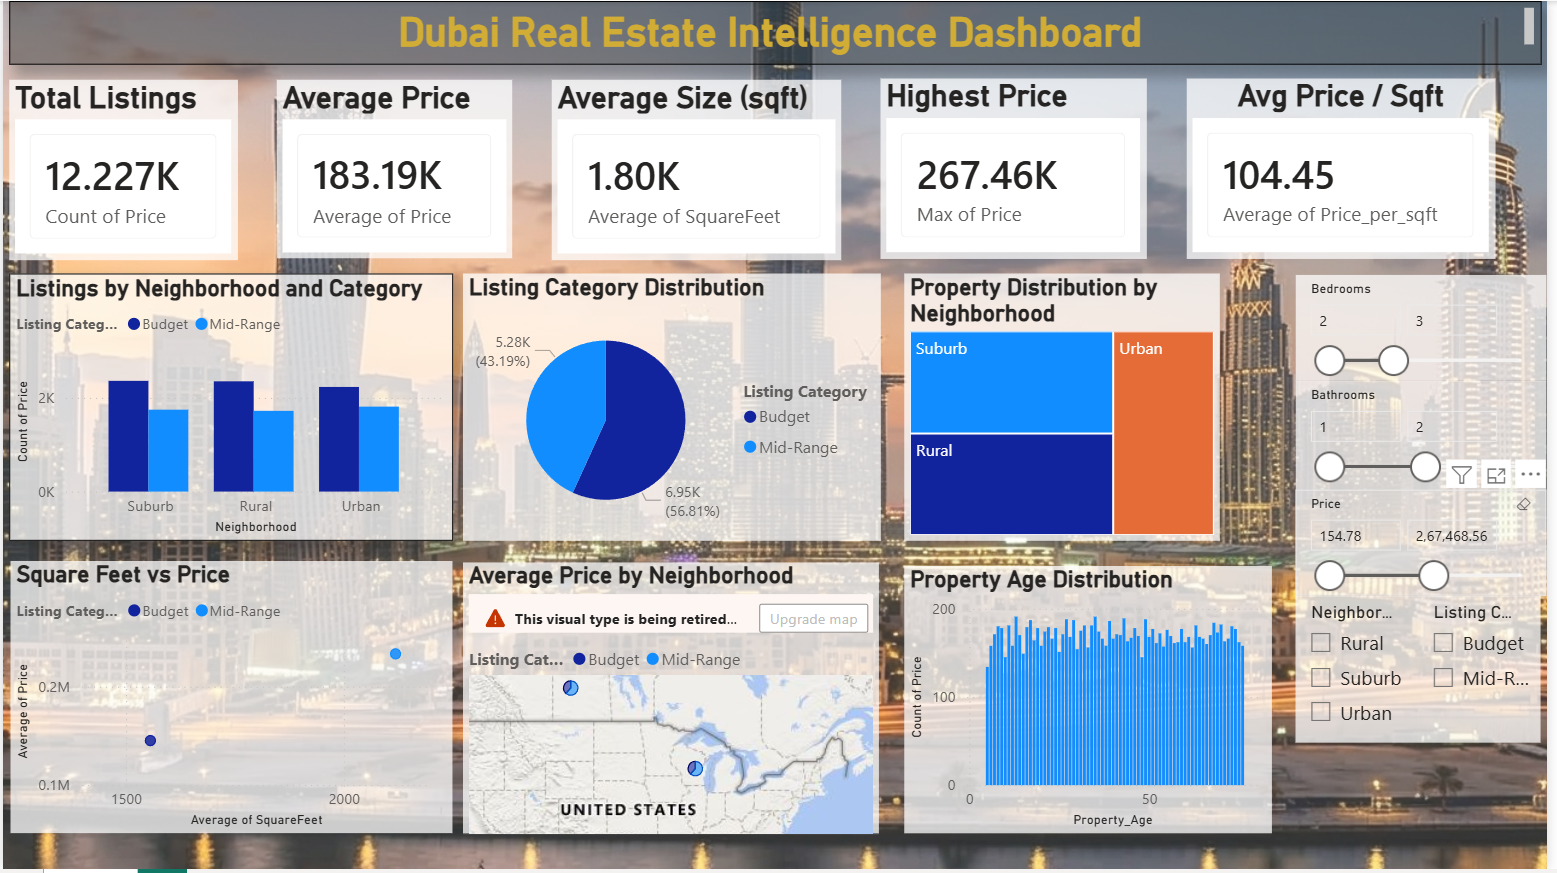

What the dashboard file says about the page in this screenshot:
{"tool":"powerbi","page":{"name":"Page 1","canvas":[1280,720],"ordinal":0},"visuals":[{"type":"textbox","box":[4.8,0,1270.4,53.1],"z":0},{"type":"cardVisual","title":"Total Listings","fields":{"Data":["CountNonNull(housing_price_dataset.Price)"]},"box":[4.8,65.1,189.4,149.6],"z":1000},{"type":"cardVisual","title":"Average Price","fields":{"Data":["Avg(housing_price_dataset.Price)"]},"box":[226.8,65.8,195.4,148.4],"z":2000},{"type":"cardVisual","title":"Average Size (sqft)","fields":{"Data":["Avg(housing_price_dataset.SquareFeet)"]},"box":[454.8,65.1,240.1,149.6],"z":3000},{"type":"cardVisual","title":"Avg Price / Sqft","fields":{"Data":["Avg(housing_price_dataset.Price_per_sqft)"]},"box":[980.8,63.9,255.8,149.6],"z":4000},{"type":"cardVisual","title":"Highest Price","fields":{"Data":["Max(housing_price_dataset.Price)"]},"box":[727.5,64.5,220.8,149.6],"z":5000},{"type":"clusteredColumnChart","title":"Listings by Neighborhood and Category","fields":{"Category":["housing_price_dataset.Neighborhood"],"Y":["CountNonNull(housing_price_dataset.Price)"],"Series":["housing_price_dataset.Listing Category"]},"box":[4.8,225.6,368,222],"z":6000},{"type":"pieChart","title":"Listing Category Distribution","fields":{"Category":["housing_price_dataset.Listing Category"],"Y":["CountNonNull(housing_price_dataset.Price)"]},"box":[381.2,225.6,346.2,222],"z":7000},{"type":"clusteredColumnChart","title":"Property Age Distribution","fields":{"Category":["housing_price_dataset.Property_Age"],"Y":["CountNonNull(housing_price_dataset.Price)"]},"box":[746.7,468.3,305,221.7],"z":8000},{"type":"scatterChart","title":"Square Feet vs Price","fields":{"X":["Avg(housing_price_dataset.SquareFeet)"],"Y":["Avg(housing_price_dataset.Price)"],"Series":["housing_price_dataset.Listing Category"]},"box":[6,464.5,366.8,225.6],"z":9000},{"type":"map","title":"Average Price by Neighborhood","fields":{"Category":["housing_price_dataset.Neighborhood"],"Series":["housing_price_dataset.Listing Category"],"Size":["Avg(housing_price_dataset.Price)"]},"box":[381.7,465,345,225],"z":10000},{"type":"treemap","title":"Property Distribution by Neighborhood","fields":{"Values":["CountNonNull(housing_price_dataset.Price)"],"Group":["housing_price_dataset.Neighborhood"]},"box":[746.8,225.6,261.8,222],"z":11000},{"type":"slicer","fields":{"Values":["housing_price_dataset.Bedrooms"]},"box":[1071.7,226.7,208.3,88.3],"z":12000},{"type":"slicer","fields":{"Values":["housing_price_dataset.Bathrooms"]},"box":[1071.7,315,208.3,90],"z":13000},{"type":"slicer","fields":{"Values":["housing_price_dataset.Neighborhood"]},"box":[1071.7,493.3,101.7,121.7],"z":14000},{"type":"slicer","fields":{"Values":["housing_price_dataset.Listing Category"]},"box":[1173.3,493.3,101.7,121.7],"z":15000},{"type":"slicer","fields":{"Values":["housing_price_dataset.Price"]},"box":[1071.7,405,208.3,88.3],"z":16000}]}

Visuals, with their boxes in screenshot pixels (x1, y1, x2, y2), scaled from the page's 1280x720 canvas onto the 1557x873 screenshot:
textbox: 6,0,1551,64
"Total Listings" cardVisual: 6,79,236,260
"Average Price" cardVisual: 276,80,514,260
"Average Size (sqft)" cardVisual: 553,79,845,260
"Avg Price / Sqft" cardVisual: 1193,77,1504,259
"Highest Price" cardVisual: 885,78,1154,260
"Listings by Neighborhood and Category" clusteredColumnChart: 6,274,453,543
"Listing Category Distribution" pieChart: 464,274,885,543
"Property Age Distribution" clusteredColumnChart: 908,568,1279,837
"Square Feet vs Price" scatterChart: 7,563,453,837
"Average Price by Neighborhood" map: 464,564,884,837
"Property Distribution by Neighborhood" treemap: 908,274,1227,543
slicer - housing_price_dataset.Bedrooms: 1304,275,1556,382
slicer - housing_price_dataset.Bathrooms: 1304,382,1556,491
slicer - housing_price_dataset.Neighborhood: 1304,598,1427,746
slicer - housing_price_dataset.Listing Category: 1427,598,1551,746
slicer - housing_price_dataset.Price: 1304,491,1556,598
